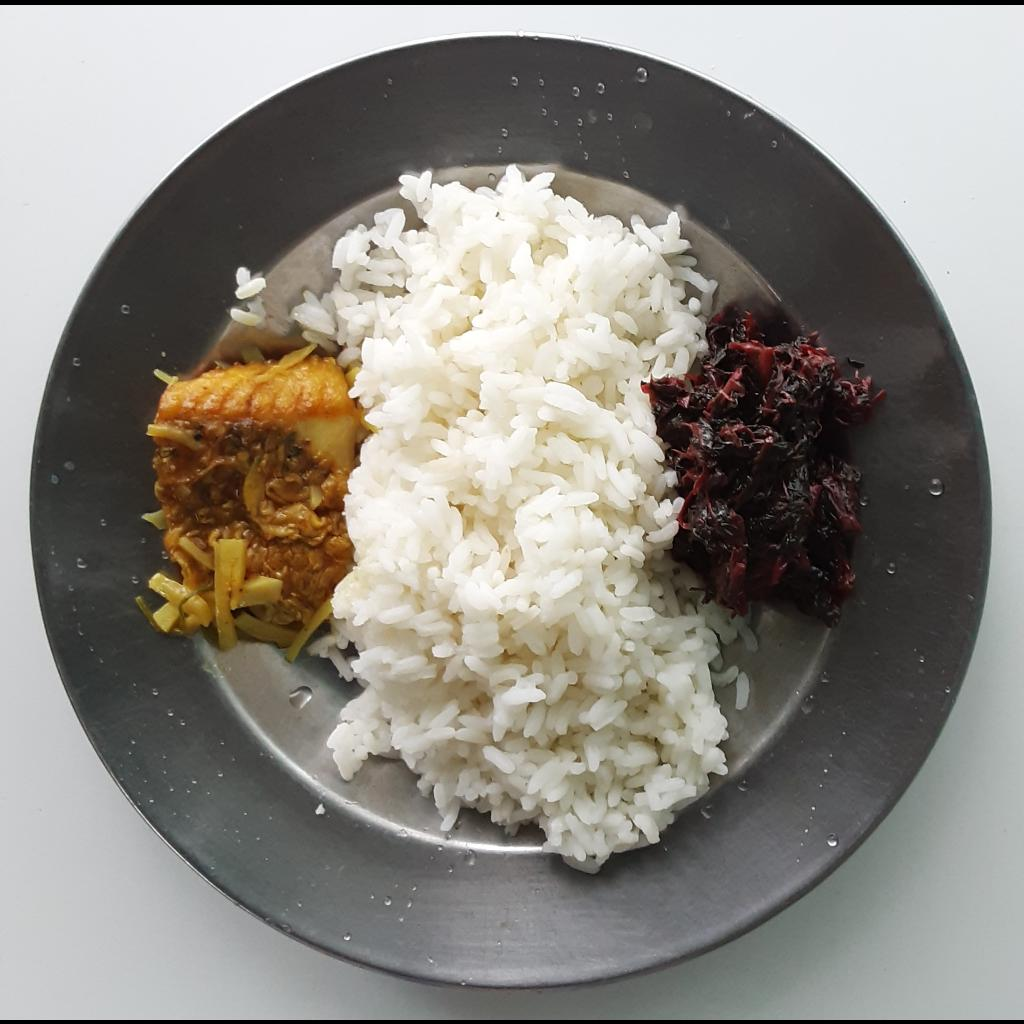fish: (147, 345, 368, 628)
lal-shak: (646, 297, 886, 624)
potato: (145, 530, 314, 660)
rice: (227, 154, 769, 876)
